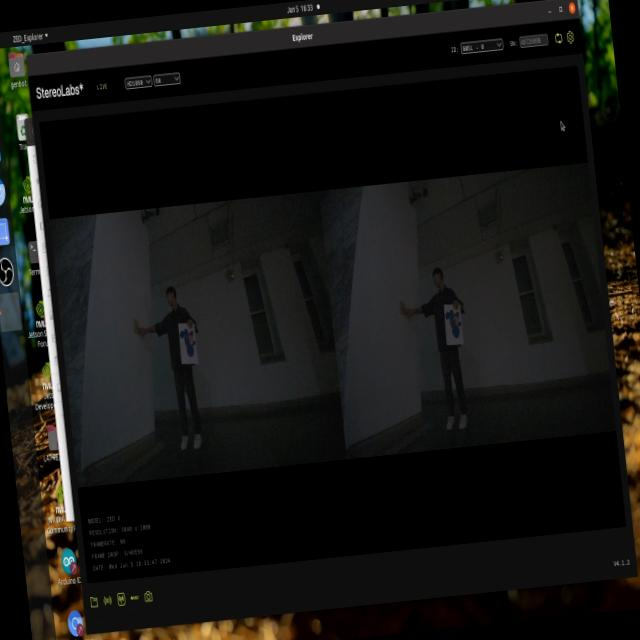blue: (175, 322, 204, 364), (442, 303, 468, 347)
